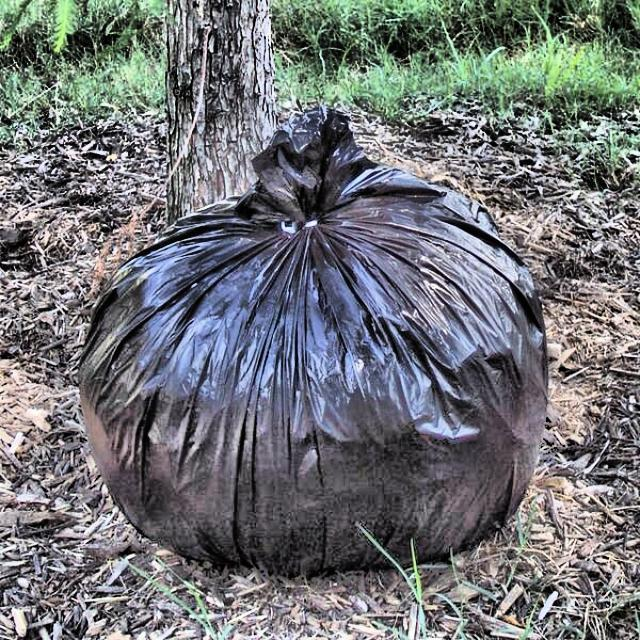Trashbag: (54, 107, 566, 576)
